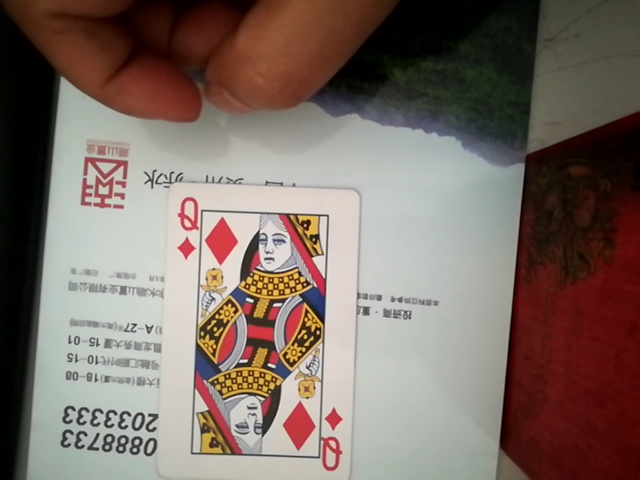fk q: (160, 173, 365, 474)
